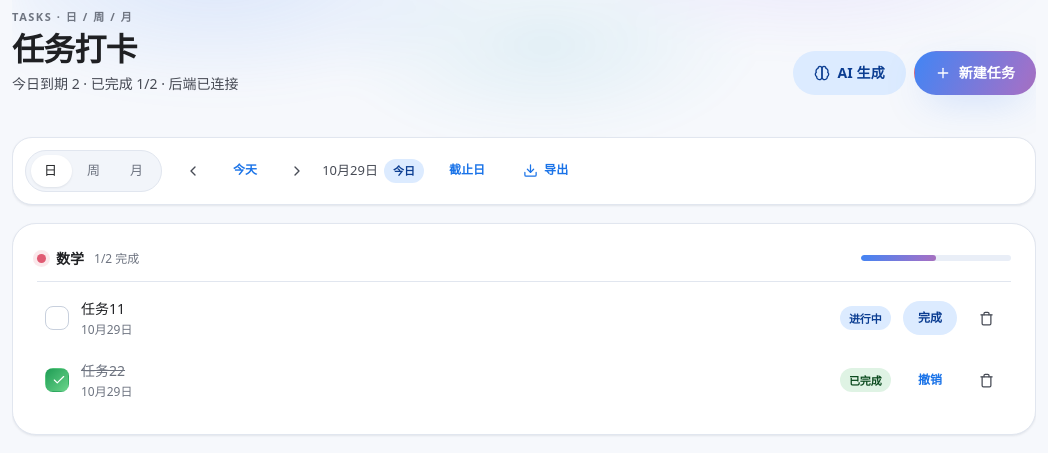
Scenario: Tasks · 乐观打卡（store 驱动，页面薄层） › 打卡失败 → 状态保持乐观结果并入失败队列重试，同时给出可感知提示
This screenshot has width=1048, height=453.
Expected: the text "今日到期 2 · 已完成 1/2 · 后端已连接" is shown, [12,73,239,95]
Click the button named "标记完成": (57, 318) [45,306,69,330]
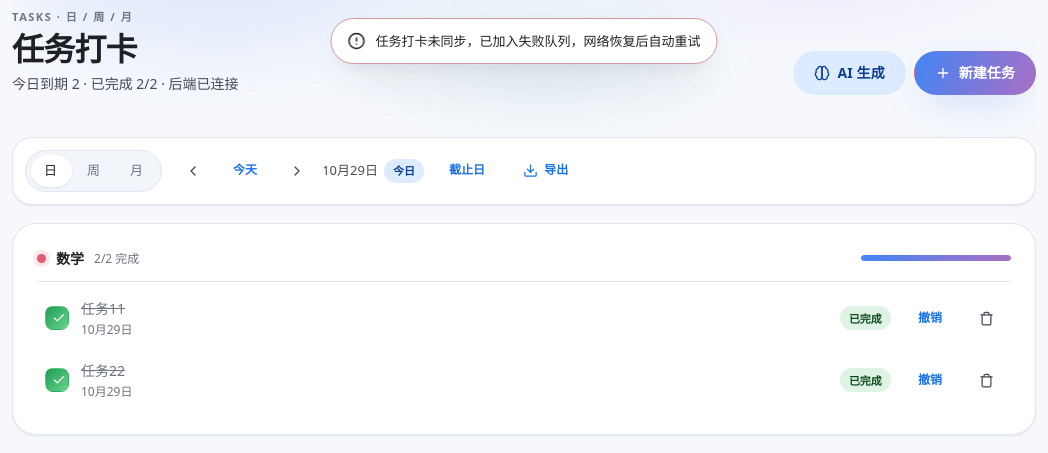
Now the text "任务打卡未同步，已加入失败队列，网络恢复后自动重试" is shown, box [376,31,700,51]
